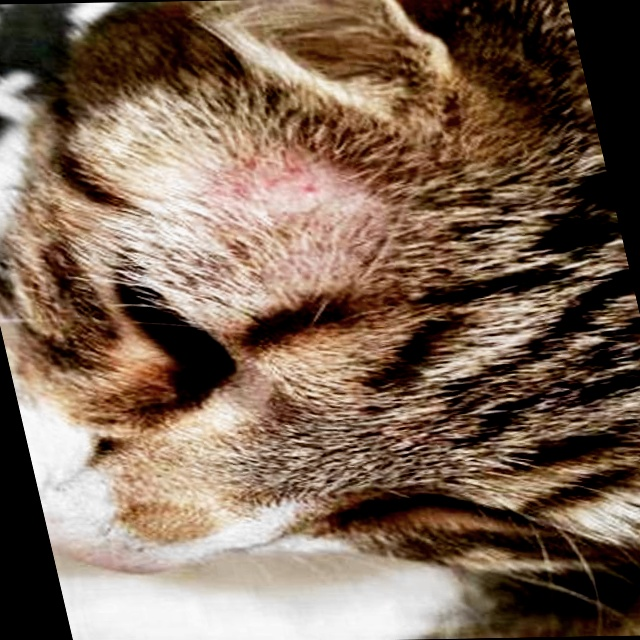ringworm: (162, 151, 391, 267)
